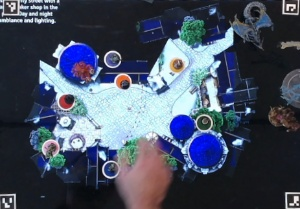blue: (101, 159, 120, 180)
green: (195, 112, 213, 131)
orange: (112, 72, 132, 92)
pink: (40, 137, 60, 158)
red: (56, 92, 76, 111)
violet: (104, 50, 122, 68)
yellow: (168, 57, 185, 73)
